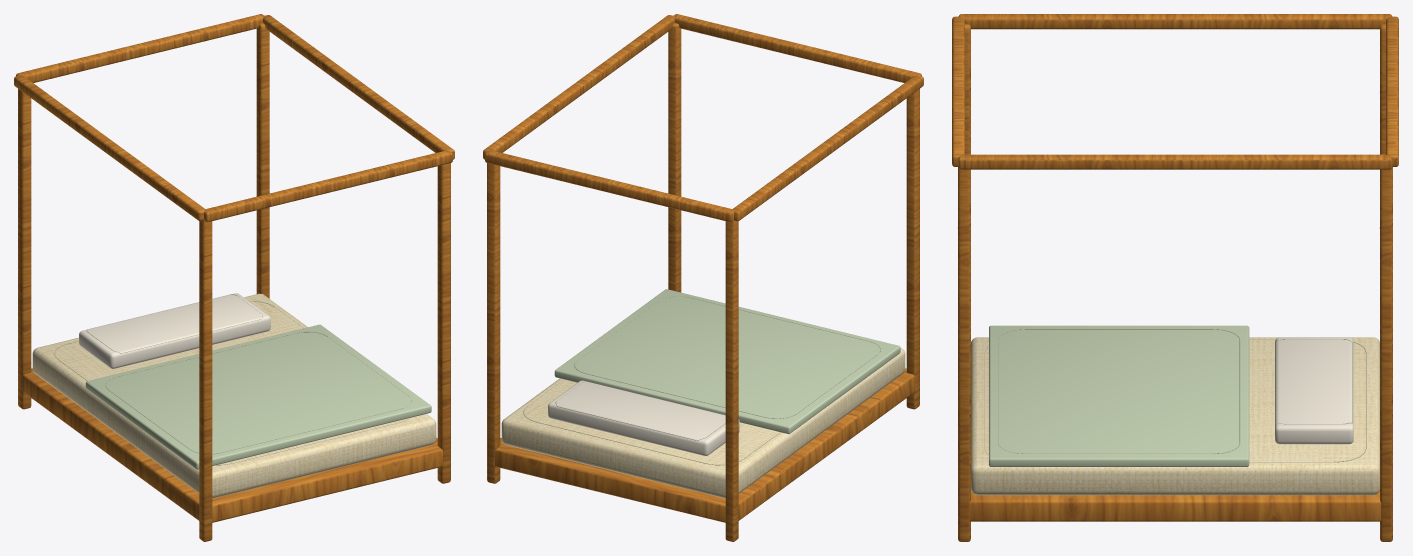
Rendered from canopy-bed.glb.
The picture shows the model from 3 angles, left to right: view 1: azimuth 30°, elevation 25°; view 2: azimuth 150°, elevation 25°; view 3: azimuth 270°, elevation 25°; orthographic projection. The views are drawn at different scales.
Visible parts, largest first — view 1: canopy-bed; view 2: canopy-bed; view 3: canopy-bed.
Part boxes in pixels (x1,y1,x2,y2): canopy-bed: [14, 14, 454, 541]; canopy-bed: [483, 14, 923, 541]; canopy-bed: [952, 14, 1398, 541].
Size of the model in its own units: 1.7 by 2.1 by 2.2.
7 materials, 2 textured.
